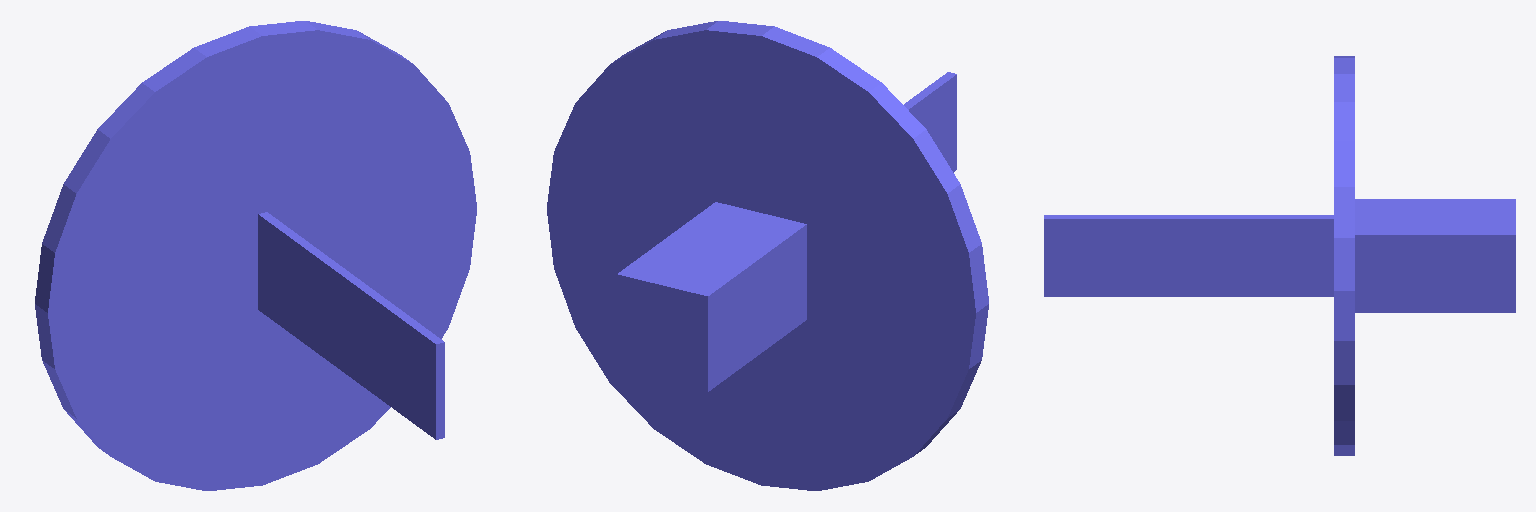
The robot description file, URDF, robot "lid_3":
<?xml version="0.0" ?>
<robot name="lid_3">
  <link name="base_link">
  <contact>
      <lateral_friction value="1"/>
  </contact>
    <inertial>
      <origin rpy="0 0 0" xyz="0 0 0"/>
       <mass value="0.05"/>
       <inertia ixx="0.001" ixy="0" ixz="0" iyy="0.001" iyz="0" izz="0.001"/>
    </inertial>
    <visual>
      <origin rpy="0 0 0" xyz="0 0 0"/>
      <geometry>
				<mesh filename="lid.obj" scale="1 1 1"/>
      </geometry>
       <material name="blueish">
        <color rgba="0.5 0.5 1 1"/>
      </material>
    </visual>
    <collision>
      <origin rpy="0 0 0" xyz="0 0 0"/>
      <geometry>
				<mesh filename="lid_collision.obj" scale="1 1 1"/>
      </geometry>
    </collision>
  </link>
</robot>

--- Render facts (derived) ---
Views: 3 orthographic renders of the robot side by side, from view 1: azimuth 30°, elevation 25°; view 2: azimuth 150°, elevation 25°; view 3: azimuth 270°, elevation 25°.
Model lid_3 with 1 links and 0 joints (none), rooted at base_link, posed every joint at zero.
Visible links, largest first — view 1: base_link; view 2: base_link; view 3: base_link.
Boxes of the visible links, bbox=[...] form: base_link: bbox=[35, 21, 476, 490]; base_link: bbox=[547, 21, 988, 490]; base_link: bbox=[1044, 56, 1515, 455].
Bounding box of the posed robot: 0.094 × 0.11 × 0.094 m (x, y, z).
Meshes: 1 distinct files referenced, 1 mesh visuals loaded (1 OBJ).
